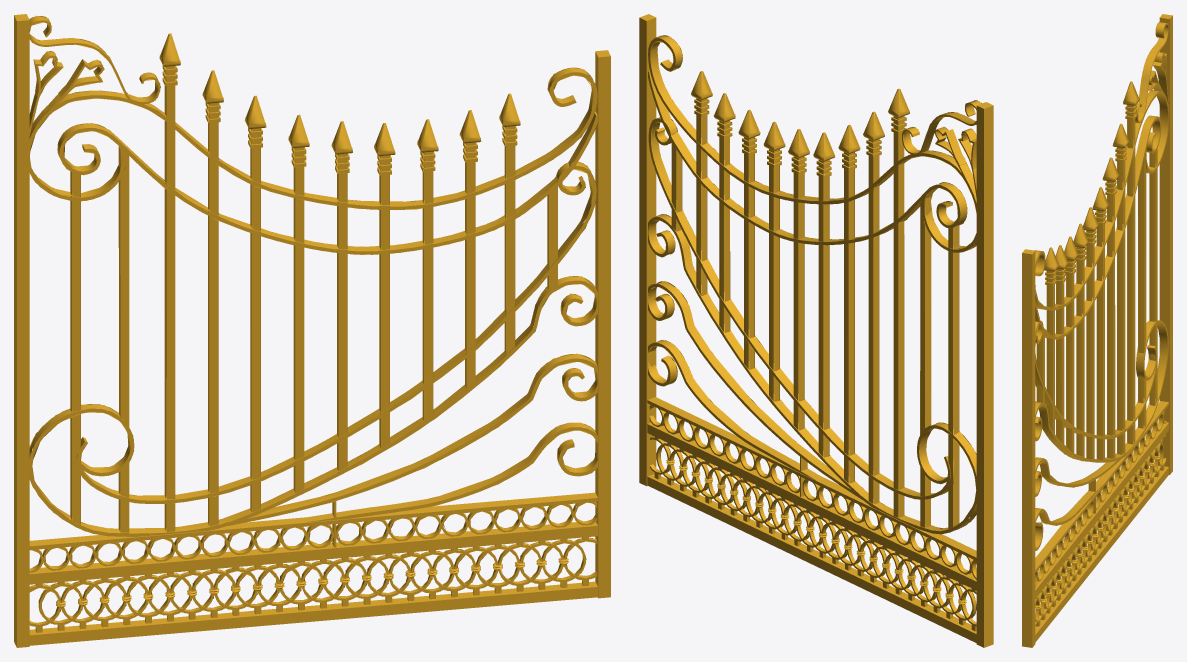
Rendered from gate.glb.
3 views of the same model, side by side, from view 1: azimuth 30°, elevation 25°; view 2: azimuth 150°, elevation 25°; view 3: azimuth 270°, elevation 25° (orthographic). The views are drawn at different scales.
Parts seen in each view (by area): view 1: Box002.001; view 2: Box002.001; view 3: Box002.001.
Part boxes in pixels (x1,y1,x2,y2): Box002.001: [14, 14, 610, 647]; Box002.001: [639, 14, 993, 647]; Box002.001: [1022, 14, 1172, 647].
Bounding box in the file's own units: 1.22 × 1.46 × 0.4381.
